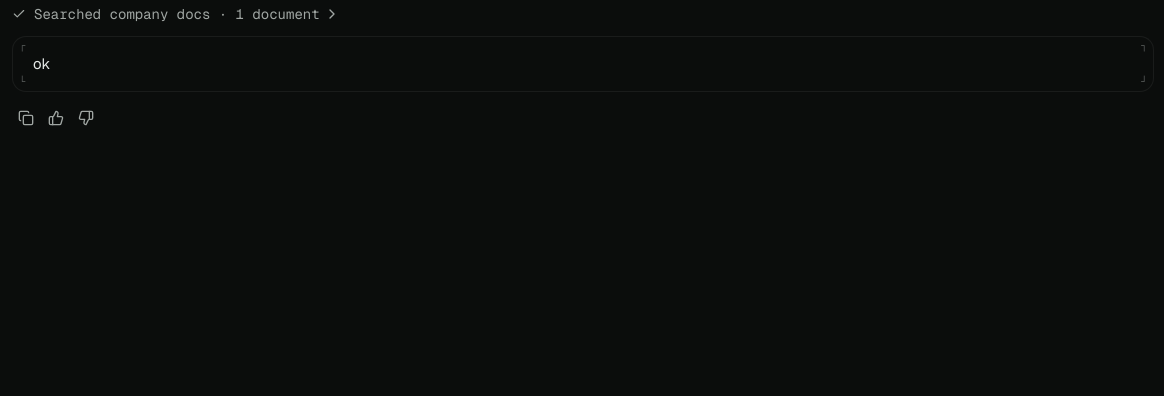
Test: the steps trace › shows admins the technical details and what a follow-up searched for
The width and height of the screenshot is (1164, 396).
Click the button "Searched company docs · 1 document". click: point(176, 14)
box: top-left (12, 4), bottom-right (340, 24)
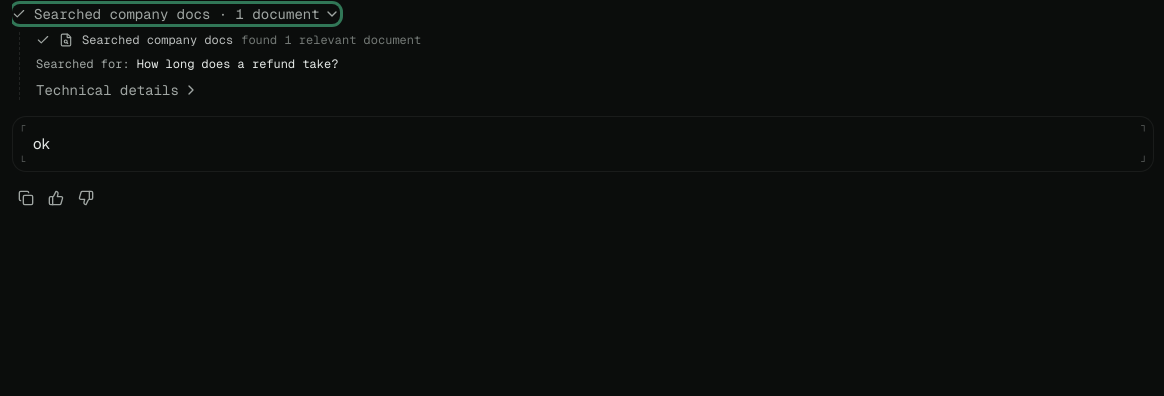
Check: the text "How long does a refund take?" is shown, box top-left (137, 56), bottom-right (338, 72)
Click the button "Technical details". click: point(117, 90)
box: top-left (36, 80), bottom-right (199, 100)
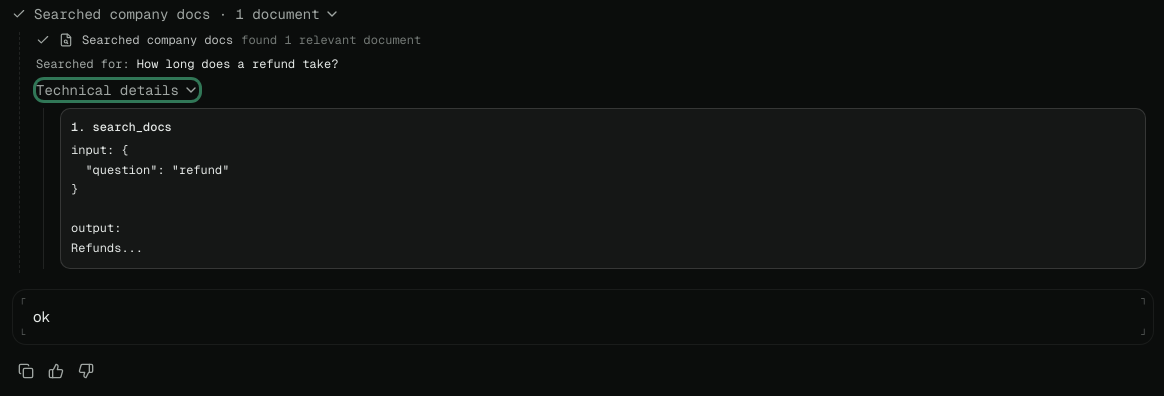
Check: the text "input: { \"question\": \"refund\" } output: Refunds..." is shown, box top-left (71, 142), bottom-right (229, 256)
